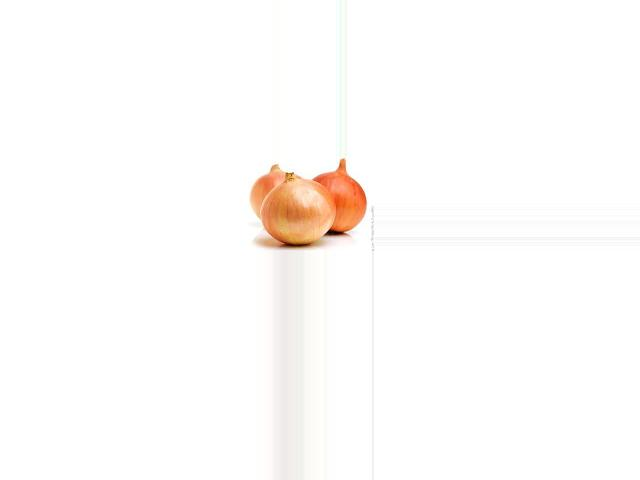onion: (310, 163, 366, 237)
